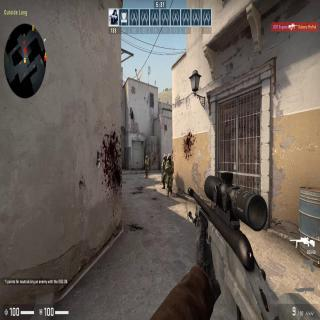CT-Body: (166, 152, 173, 196), (144, 154, 151, 178), (162, 153, 166, 188)
CT-Head: (166, 152, 172, 161), (163, 155, 167, 160), (146, 156, 148, 160)
